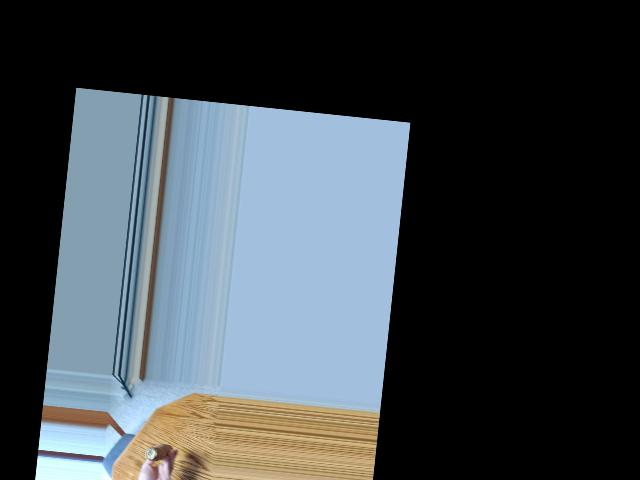sweet_potato: (140, 441, 174, 467)
